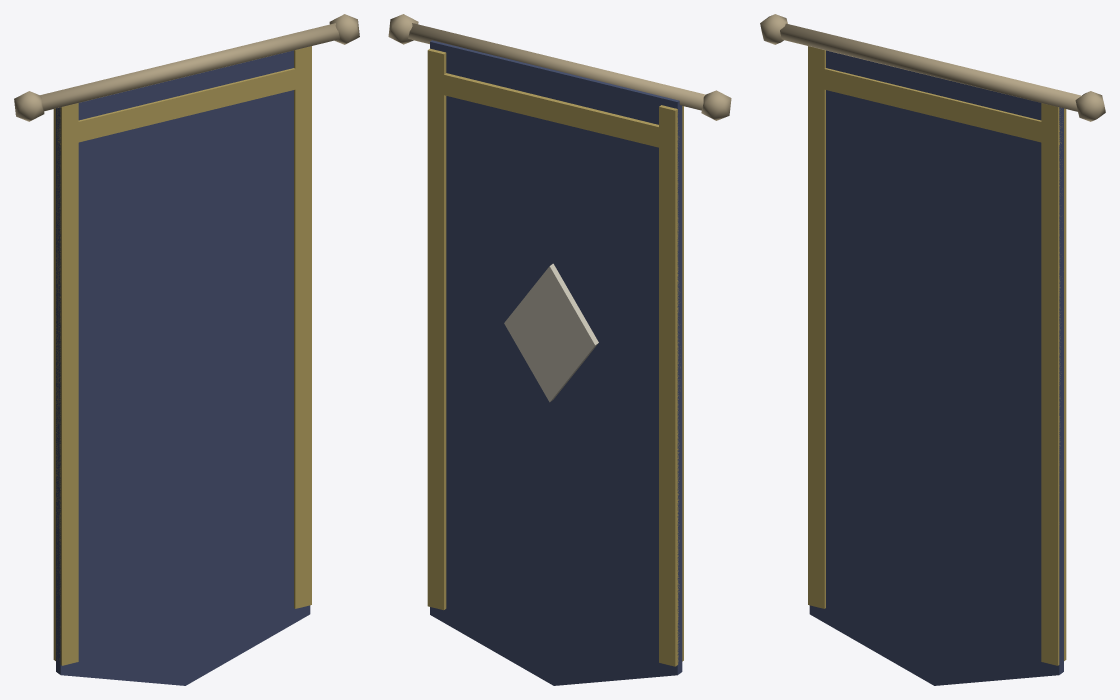
The model's file is dungeon_slime_banner_v0.glb.
The picture shows the model from 3 angles, left to right: view 1: azimuth 30°, elevation 25°; view 2: azimuth 150°, elevation 25°; view 3: azimuth 330°, elevation 25°; orthographic projection.
Visible parts, largest first — view 1: dungeon_slime_banner_v0; view 2: dungeon_slime_banner_v0; view 3: dungeon_slime_banner_v0.
Boxes of the visible parts, x1=… form: dungeon_slime_banner_v0: x1=14, y1=14, x2=359, y2=685; dungeon_slime_banner_v0: x1=388, y1=14, x2=731, y2=685; dungeon_slime_banner_v0: x1=760, y1=14, x2=1105, y2=685.
Bounding box in the file's own units: 1.04 × 1.84 × 0.0933.
